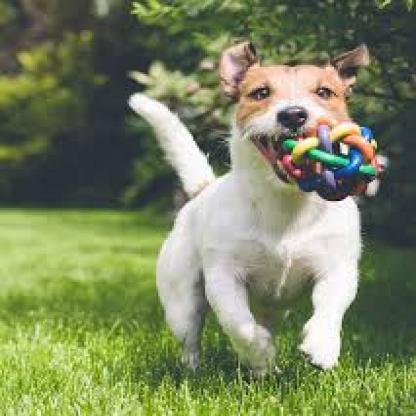dog: (78, 17, 377, 383)
